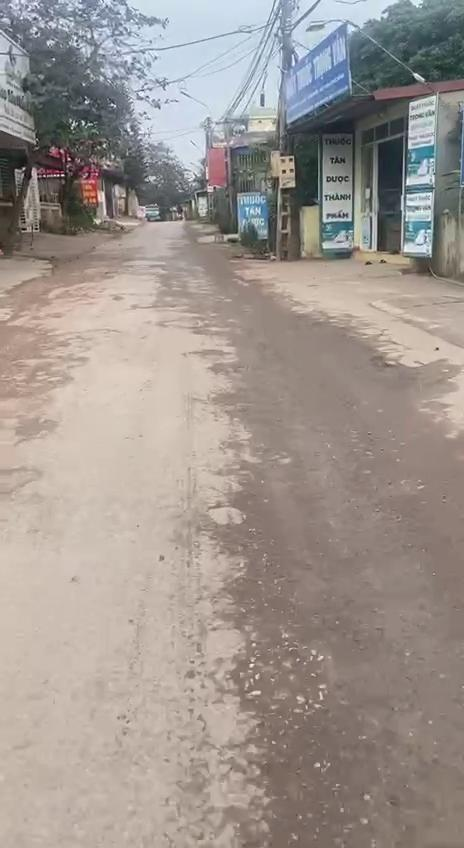pothole: (236, 706, 370, 848)
